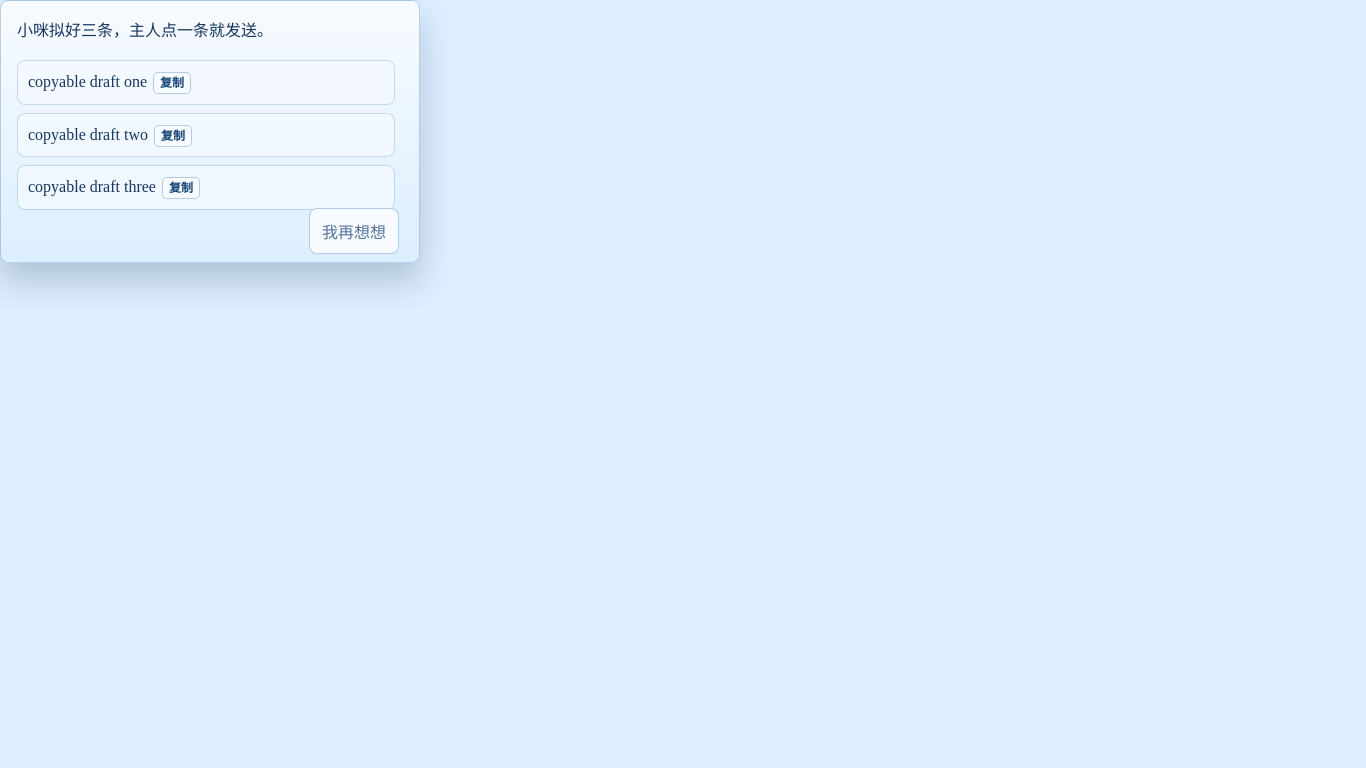
CommentChooser › keeps the copy status region mounted so the cancel action does not shift after copying
What coordinates should you click on to do the following:
click the button with aria-label "复制第 1 条评论"
I would click on:
 (172, 83)
Its box is [153,72,191,94].
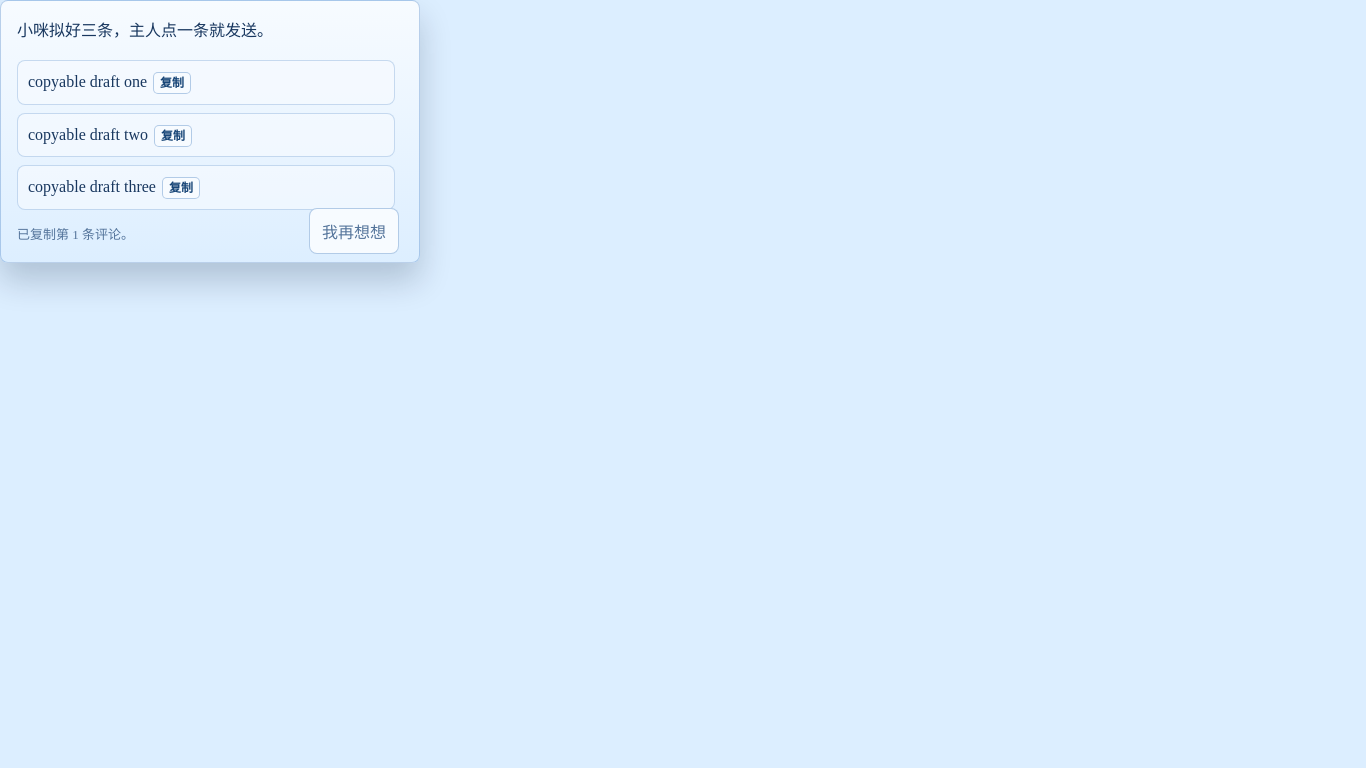
Check: the message reads "已复制第 1 条评论。", box [17,227,134,242]
